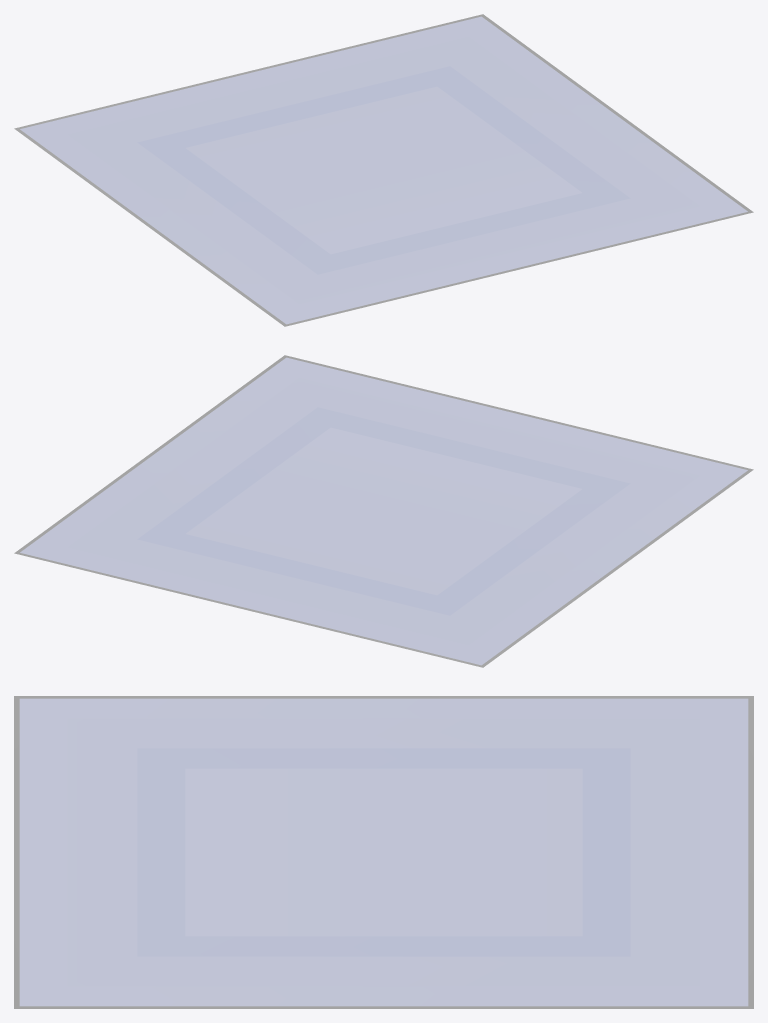
Rendered from Museum_FloorTile.fbx.
The picture shows the model from 3 angles, top to bottom: view 1: azimuth 30°, elevation 25°; view 2: azimuth 150°, elevation 25°; view 3: azimuth 270°, elevation 25°; orthographic projection. The views are drawn at different scales.
Parts seen in each view (by area): view 1: Cube; view 2: Cube; view 3: Cube.
Part boxes in pixels (<box>): Cube: <box>14,14,753,326</box>; Cube: <box>14,355,753,667</box>; Cube: <box>14,696,753,1008</box>.
Size of the model in its own units: 2 by 3.26e-07 by 2.
